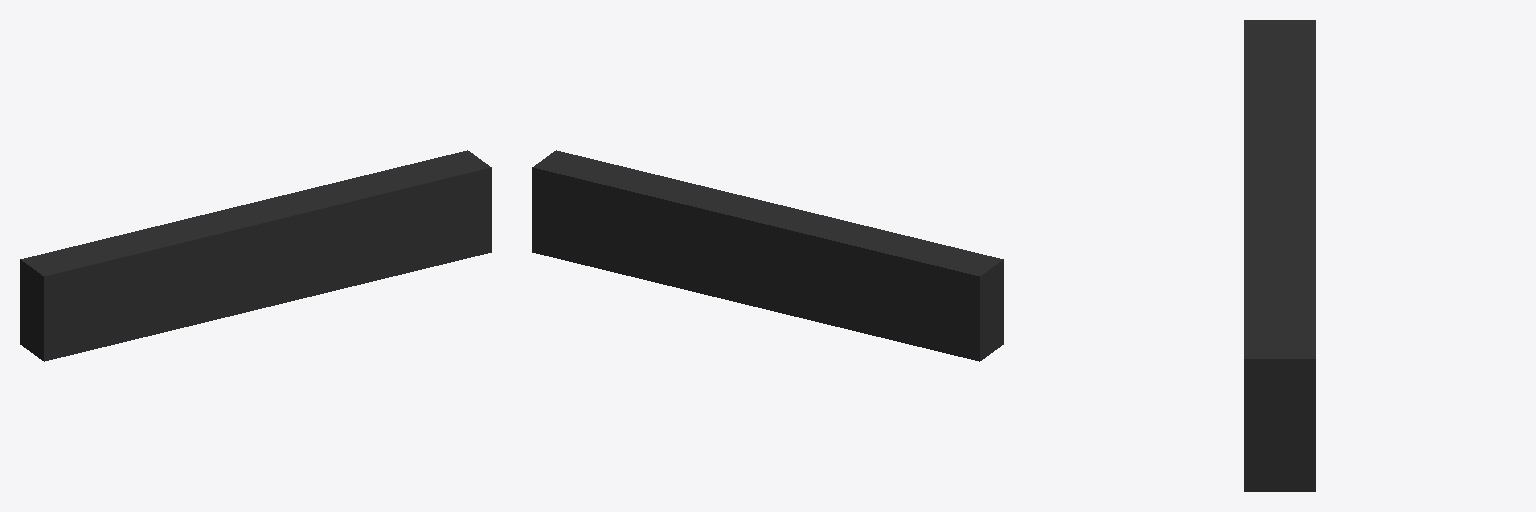
URDF robot description (wall):
<robot name="wall">
  <link name="baseLink">
   
    <inertial>
      <origin rpy="0 0 0" xyz="0 0 0" />
       <mass value="1000.0" />
       <inertia ixx="0" ixy="0" ixz="0" iyy="0" iyz="0" izz="0" />
    </inertial>
    <visual>
      <origin rpy="0 0 0" xyz="0 0 0" />
      <geometry>
			  <box size="11 1 2" />
      </geometry>
       <material name="grey">
        <color rgba="0.24 0.24 0.24 1" />
      </material>
    </visual>
    <collision>
      <origin rpy="0 0 0" xyz="0 0 0" />
      <geometry>
	 	      <box size="11 1 2" />
      </geometry>
    </collision>
  </link>
</robot>

--- Facts derived from the render (not from the file) ---
3 views of the same robot in one strip: view 1: azimuth 30°, elevation 25°; view 2: azimuth 150°, elevation 25°; view 3: azimuth 270°, elevation 25° (orthographic).
Robot: wall — 1 links, 0 joints (none); root link baseLink; default pose: every joint at zero.
Links seen in each view (by area): view 1: baseLink; view 2: baseLink; view 3: baseLink.
Boxes of the visible links, x1,y1,x2,y2 form: baseLink: [20, 150, 491, 361]; baseLink: [532, 150, 1003, 361]; baseLink: [1244, 20, 1315, 491].
Bounding box of the posed robot: 11 × 1 × 2 m (x, y, z).
Geometry: primitives only (box / cylinder / sphere), no mesh files.